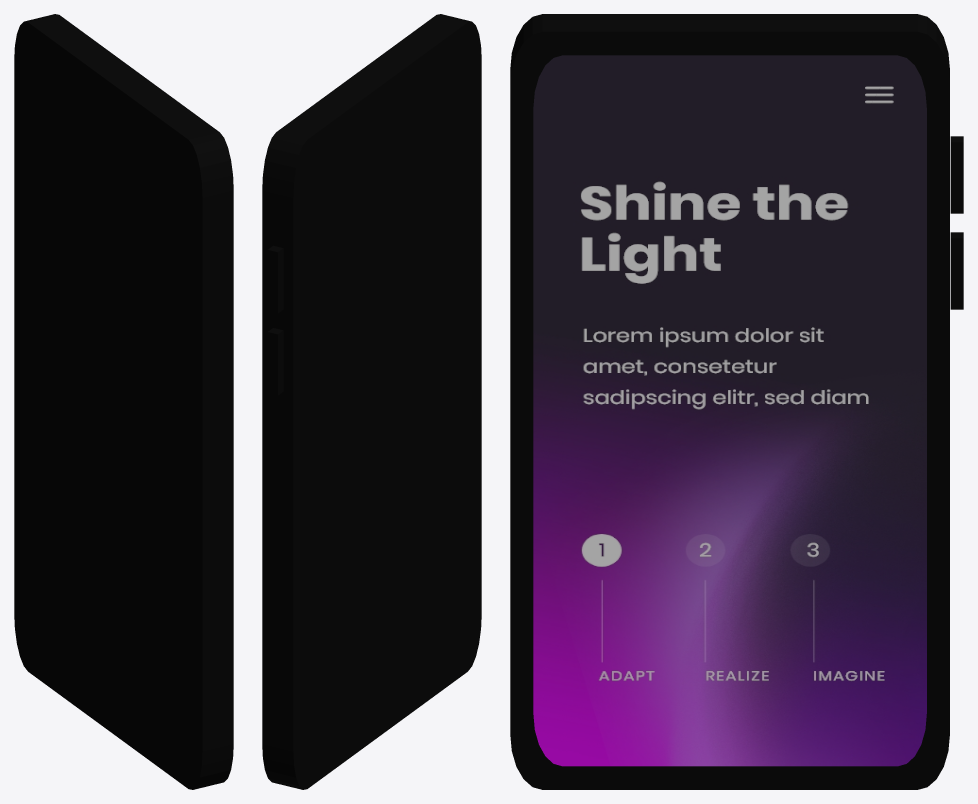
File: phone.gltf
3 views of the same model, side by side, from view 1: azimuth 30°, elevation 25°; view 2: azimuth 150°, elevation 25°; view 3: azimuth 270°, elevation 25° (orthographic). The views are drawn at different scales.
Parts seen in each view (by area): view 1: Buttons; view 2: Buttons; view 3: Buttons.
Part boxes in pixels (box(x1,y1,x2,y2)): Buttons: box(14, 14, 233, 789); Buttons: box(262, 14, 481, 789); Buttons: box(510, 14, 963, 789).
Bounding box in the file's own units: 0.1914 × 3.8 × 2.06.
Materials: 3 (1 with a texture image).
